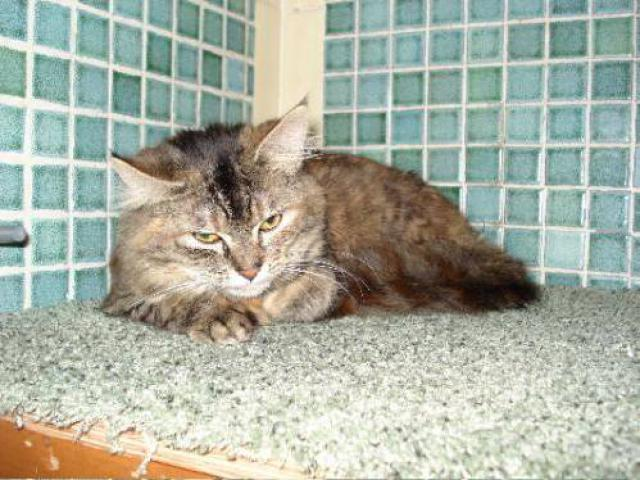cat: (99, 100, 545, 337)
